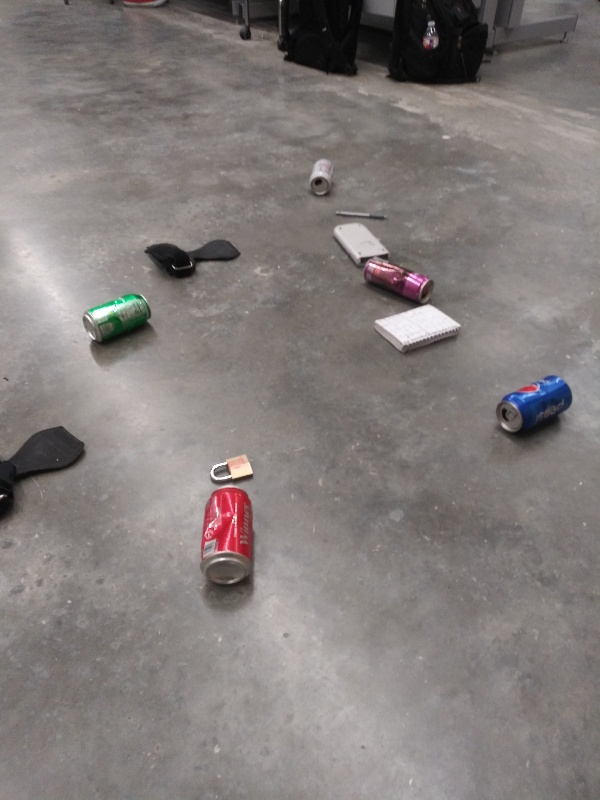can: (198, 482, 258, 588), (494, 371, 578, 436), (78, 289, 158, 351), (358, 253, 438, 305), (305, 156, 335, 198)
